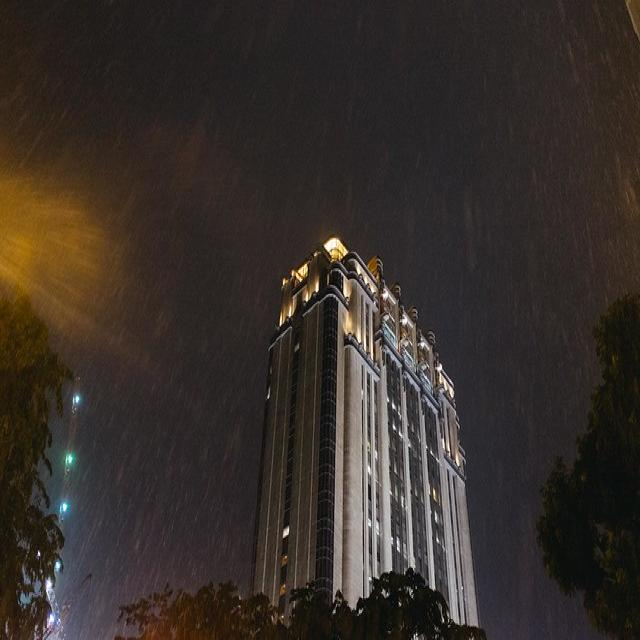Normal_building: (250, 231, 488, 640)
